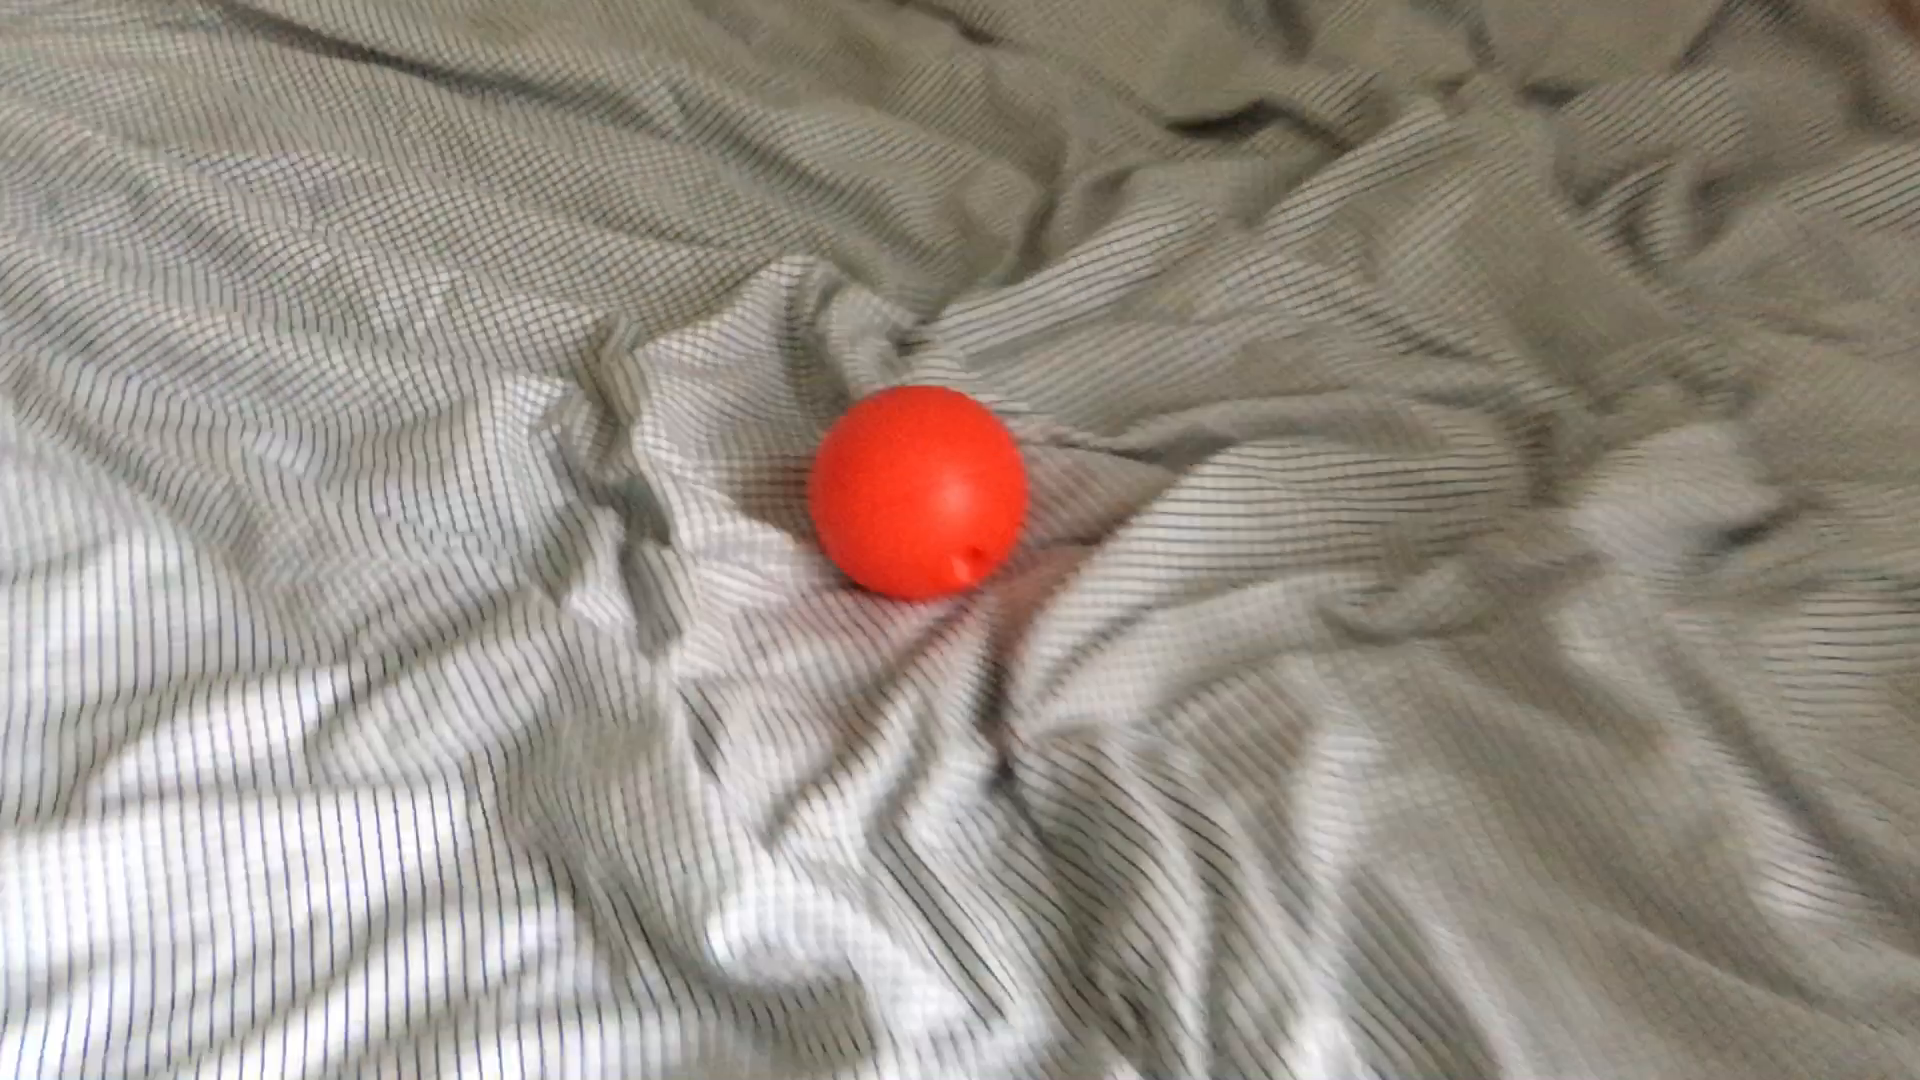Ball: (814, 384, 1030, 605)
